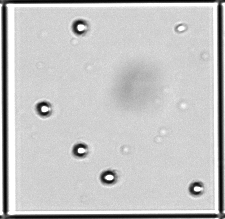Living Cell: (35, 102, 53, 117), (73, 143, 88, 158), (73, 19, 87, 35), (101, 171, 116, 184), (189, 182, 204, 195)
